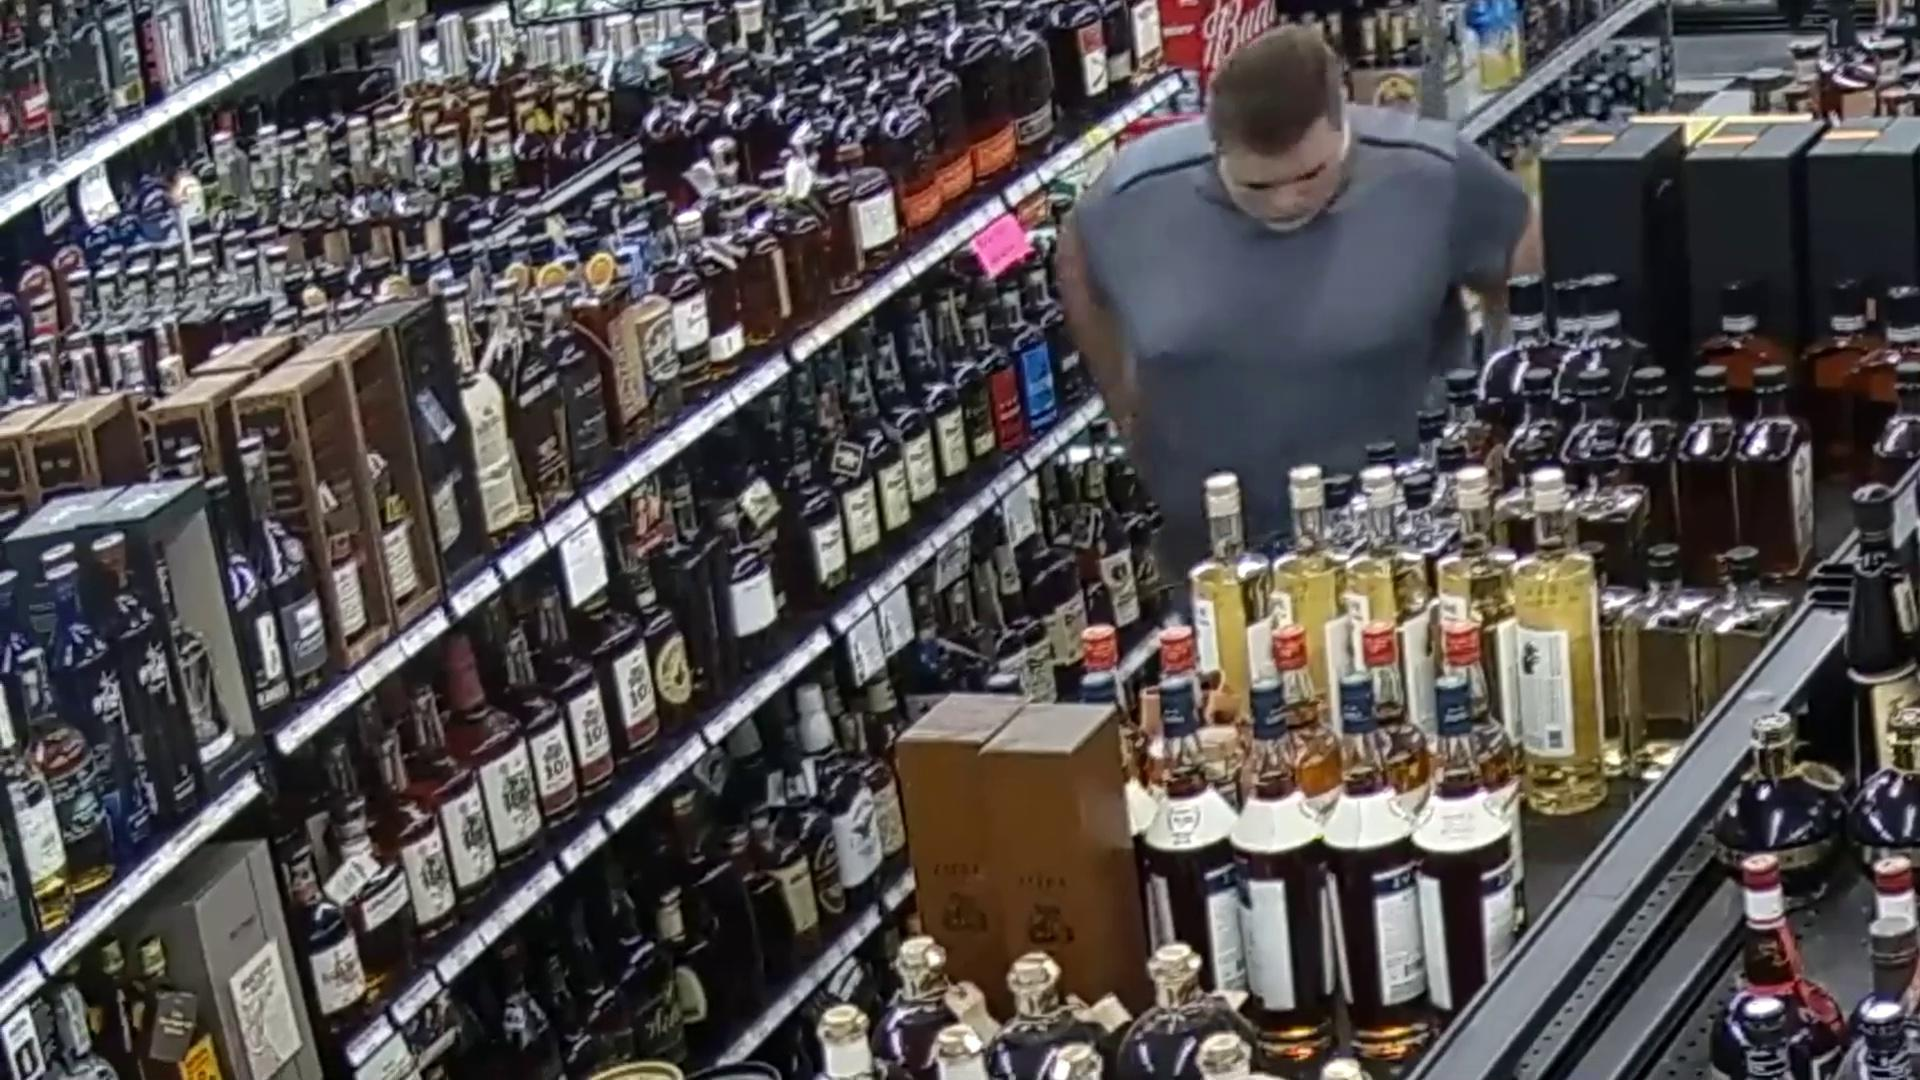Regular: (1026, 0, 1501, 600)
